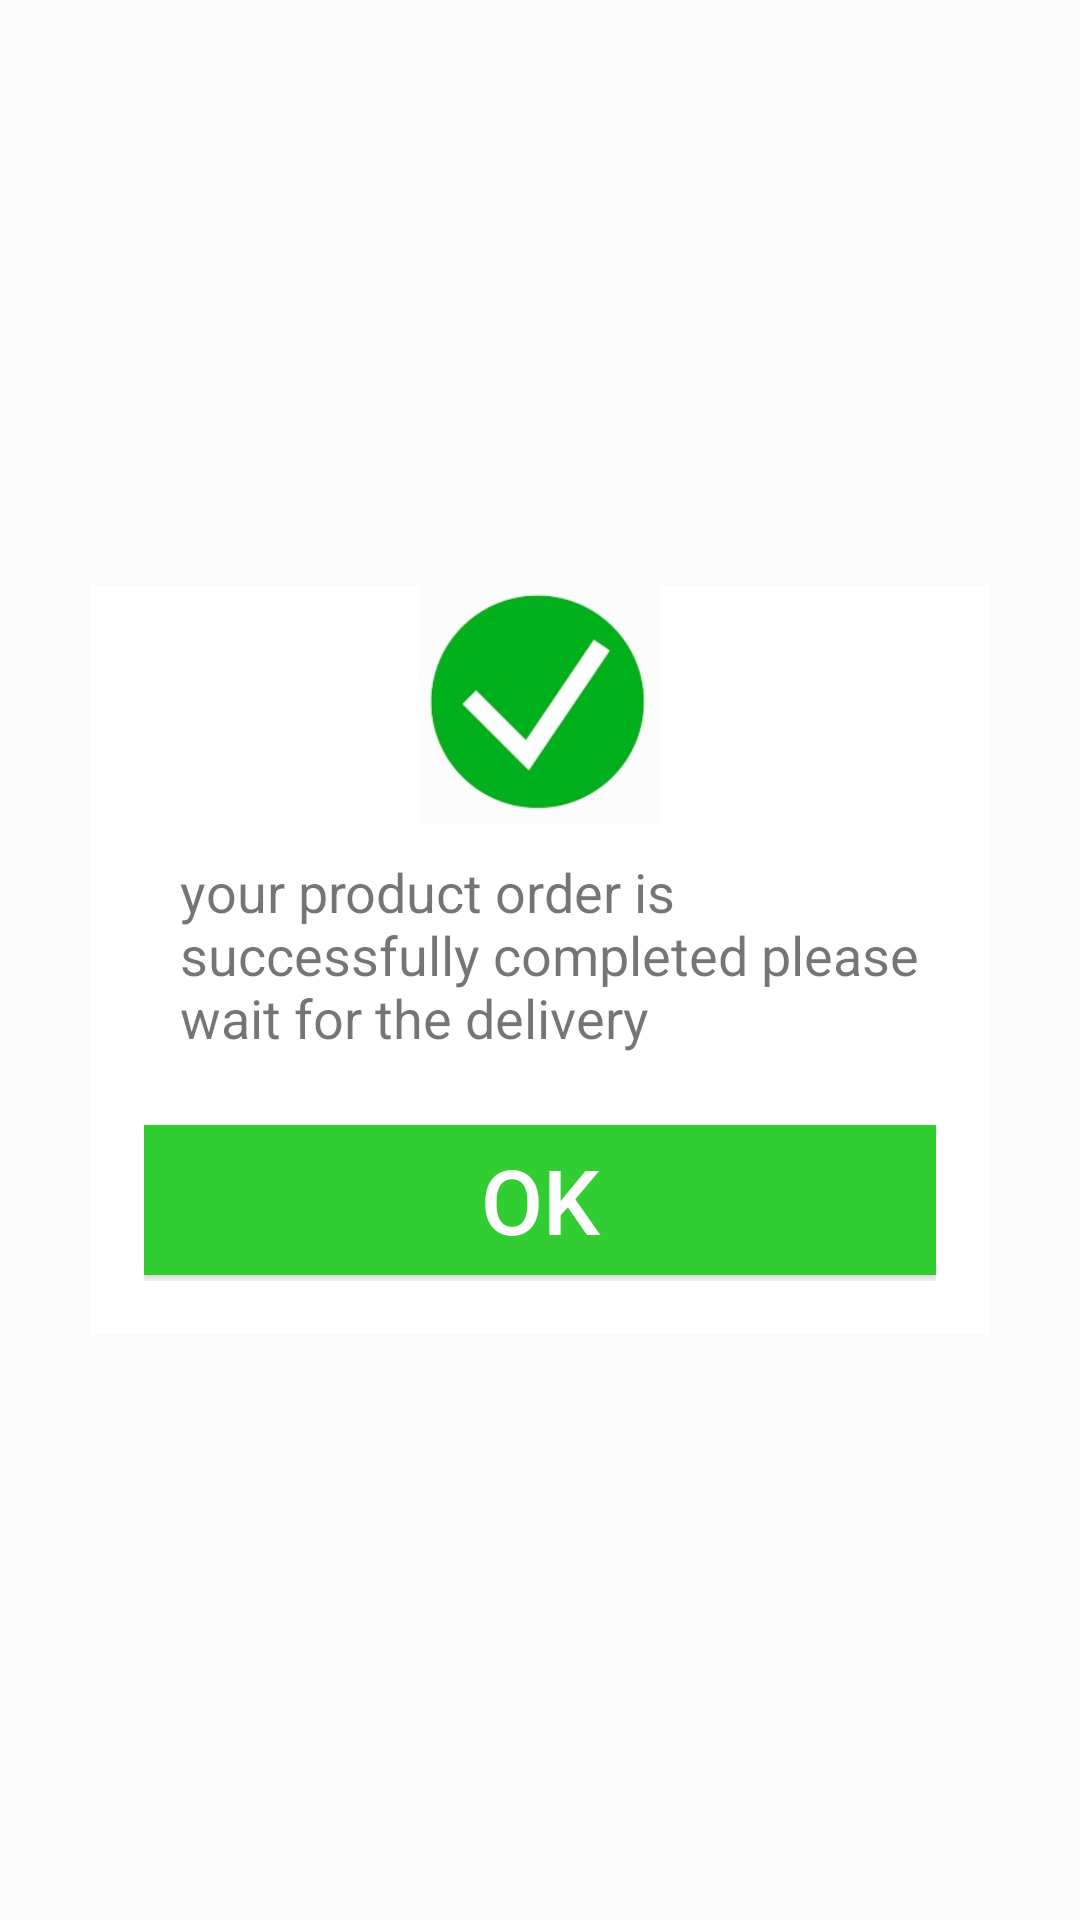

Icon click points for this 1080px×1920px phone screenshot, format [x,y]:
tick: [537,701]
